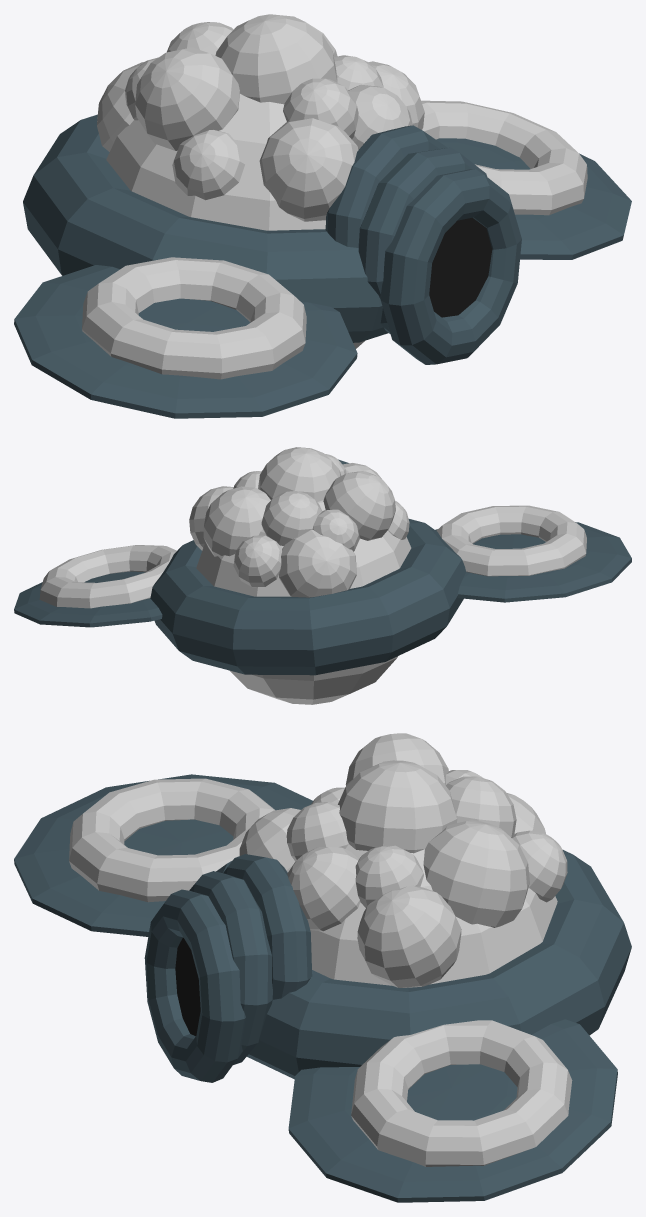
The picture shows the model from 3 angles, top to bottom: view 1: azimuth 30°, elevation 25°; view 2: azimuth 150°, elevation 25°; view 3: azimuth 270°, elevation 25°; orthographic projection. The views are drawn at different scales.
Parts seen in each view (by area): view 1: mesh_56660391, mesh_780532388, mesh_131260485, mesh_1283628519, mesh_476264904, mesh_1141610755, mesh_1189763888, mesh_1480812433, mesh_1512600639, mesh_26573203, mesh_1092801598, mesh_1724401952 (+9 smaller); view 2: mesh_56660391, mesh_476264904, mesh_131260485, mesh_780532388, mesh_1141610755, mesh_1170929825, mesh_1480812433, mesh_1189763888, mesh_1763010665, mesh_1512600639, mesh_148138, mesh_242049285 (+3 smaller); view 3: mesh_56660391, mesh_1480812433, mesh_1141610755, mesh_131260485, mesh_780532388, mesh_1283628519, mesh_1763010665, mesh_1394816546, mesh_1512600639, mesh_476264904, mesh_1092801598, mesh_1724401952 (+9 smaller).
Boxes of the visible parts, x1,y1,x2,y2 form: mesh_56660391: [23, 114, 388, 342]; mesh_780532388: [14, 265, 357, 418]; mesh_131260485: [82, 257, 306, 379]; mesh_1283628519: [380, 169, 521, 364]; mesh_476264904: [106, 94, 364, 348]; mesh_1141610755: [421, 100, 587, 215]; mesh_1189763888: [135, 47, 239, 150]; mesh_1480812433: [436, 138, 631, 259]; mesh_1512600639: [215, 14, 337, 104]; mesh_26573203: [259, 118, 358, 221]; mesh_1092801598: [358, 147, 487, 333]; mesh_1724401952: [325, 125, 447, 247]; mesh_56660391: [150, 519, 465, 675]; mesh_476264904: [196, 500, 411, 704]; mesh_131260485: [436, 505, 586, 576]; mesh_780532388: [435, 522, 631, 602]; mesh_1141610755: [39, 545, 176, 608]; mesh_1170929825: [279, 529, 356, 597]; mesh_1480812433: [14, 571, 162, 627]; mesh_1189763888: [323, 471, 395, 540]; mesh_1763010665: [203, 486, 270, 556]; mesh_1512600639: [258, 447, 341, 501]; mesh_148138: [261, 491, 322, 545]; mesh_242049285: [233, 535, 281, 587]; mesh_56660391: [216, 850, 631, 1079]; mesh_1480812433: [288, 1019, 617, 1202]; mesh_1141610755: [351, 1020, 572, 1166]; mesh_131260485: [69, 778, 274, 902]; mesh_780532388: [14, 774, 312, 936]; mesh_1283628519: [144, 889, 245, 1082]; mesh_1763010665: [423, 820, 529, 927]; mesh_1394816546: [357, 885, 461, 987]; mesh_1512600639: [338, 760, 457, 853]; mesh_476264904: [310, 844, 557, 985]; mesh_1092801598: [189, 871, 272, 1064]; mesh_1724401952: [223, 854, 312, 999].
Bounding box in the file's own units: 167 × 77.7 × 129.
